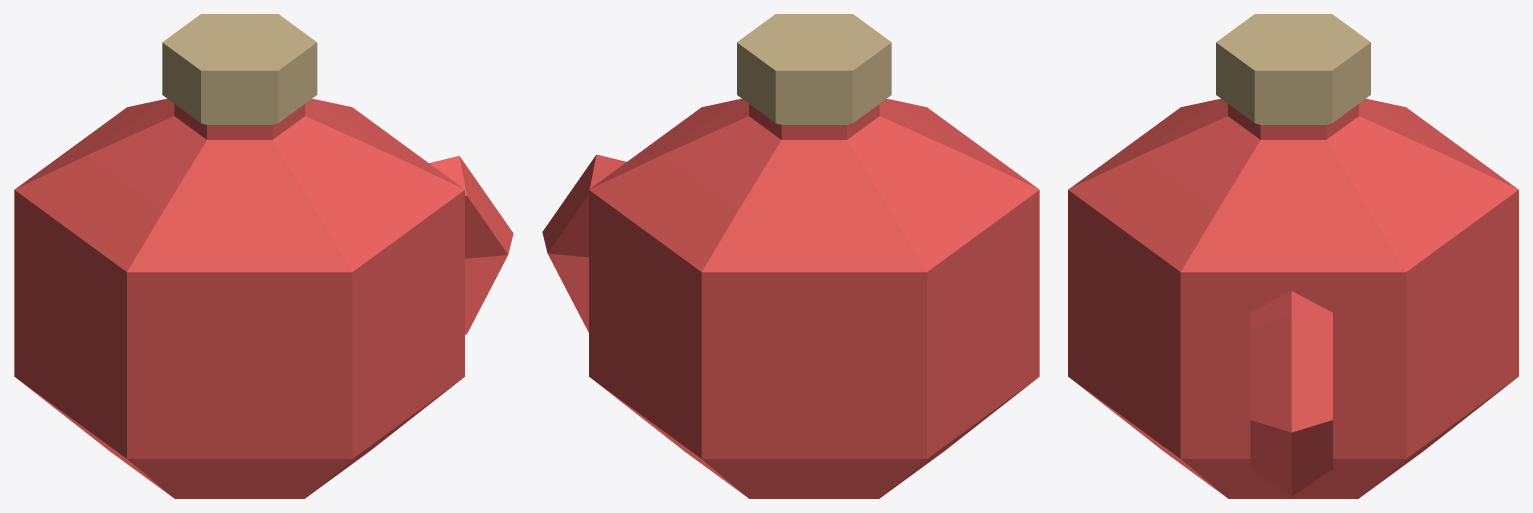
File: ShortHandlePotion.049.fbx
3 views of the same model, side by side, from view 1: azimuth 30°, elevation 25°; view 2: azimuth 150°, elevation 25°; view 3: azimuth 270°, elevation 25° (orthographic).
Visible parts, largest first — view 1: ShortHandlePotion.049; view 2: ShortHandlePotion.049; view 3: ShortHandlePotion.049.
Part boxes in pixels (x1,y1,x2,y2): ShortHandlePotion.049: (14, 14, 513, 498); ShortHandlePotion.049: (542, 14, 1039, 498); ShortHandlePotion.049: (1068, 14, 1518, 498).
Size of the model in its own units: 14.38 by 12.72 by 12.7.
